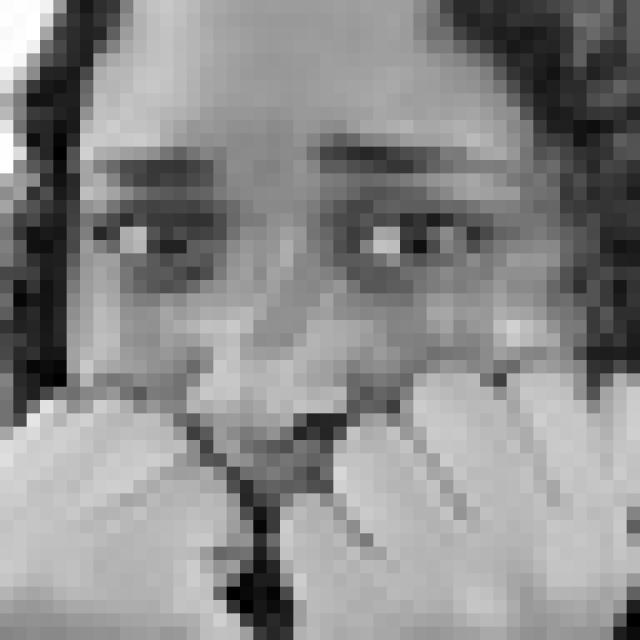fear: (76, 130, 530, 612)
